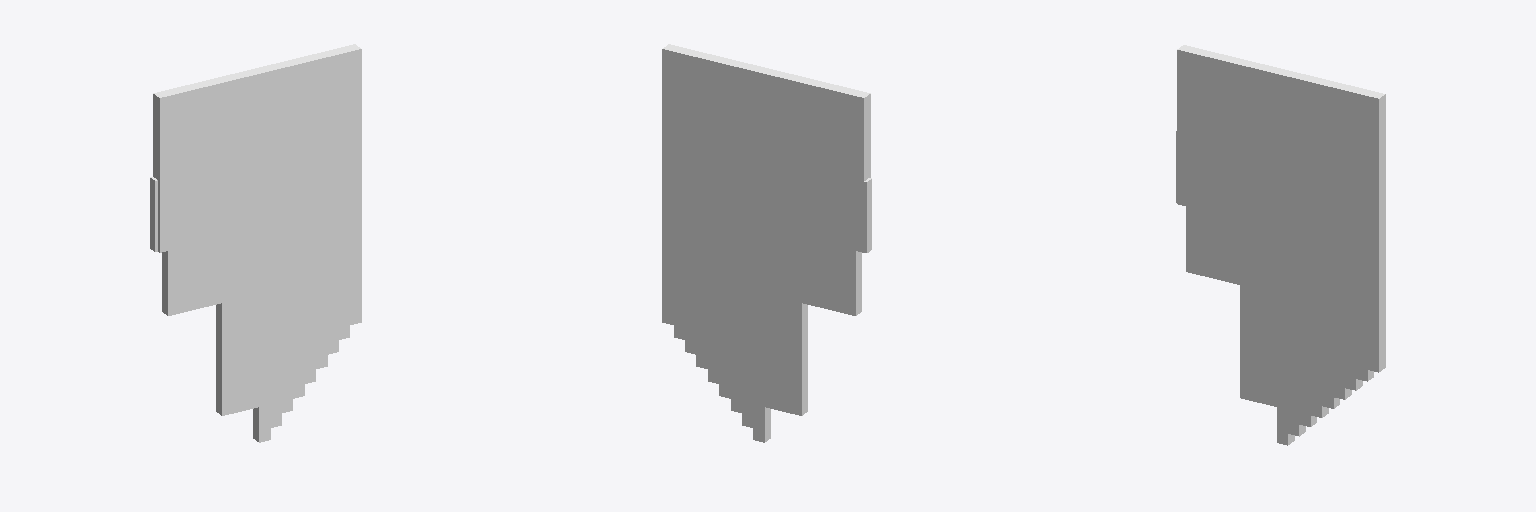
Rendered from GerbDestroyed.obj.
3 views of the same model, side by side, from view 1: azimuth 30°, elevation 25°; view 2: azimuth 150°, elevation 25°; view 3: azimuth 330°, elevation 25° (orthographic).
Parts seen in each view (by area): view 1: object 1; view 2: object 1; view 3: object 1.
Boxes of the visible parts, <box> form: object 1: <box>150,44,361,442</box>; object 1: <box>662,44,871,442</box>; object 1: <box>1176,45,1385,445</box>.
Size of the model in its own units: 7.2 by 12.4 by 0.4.